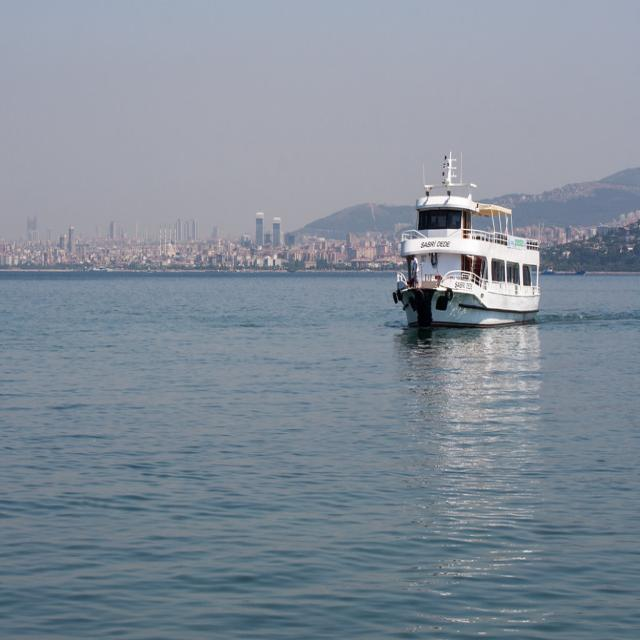passenger ship: (376, 168, 555, 321)
